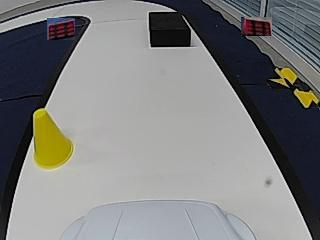block: (149, 12, 190, 47)
cone: (33, 110, 72, 169)
